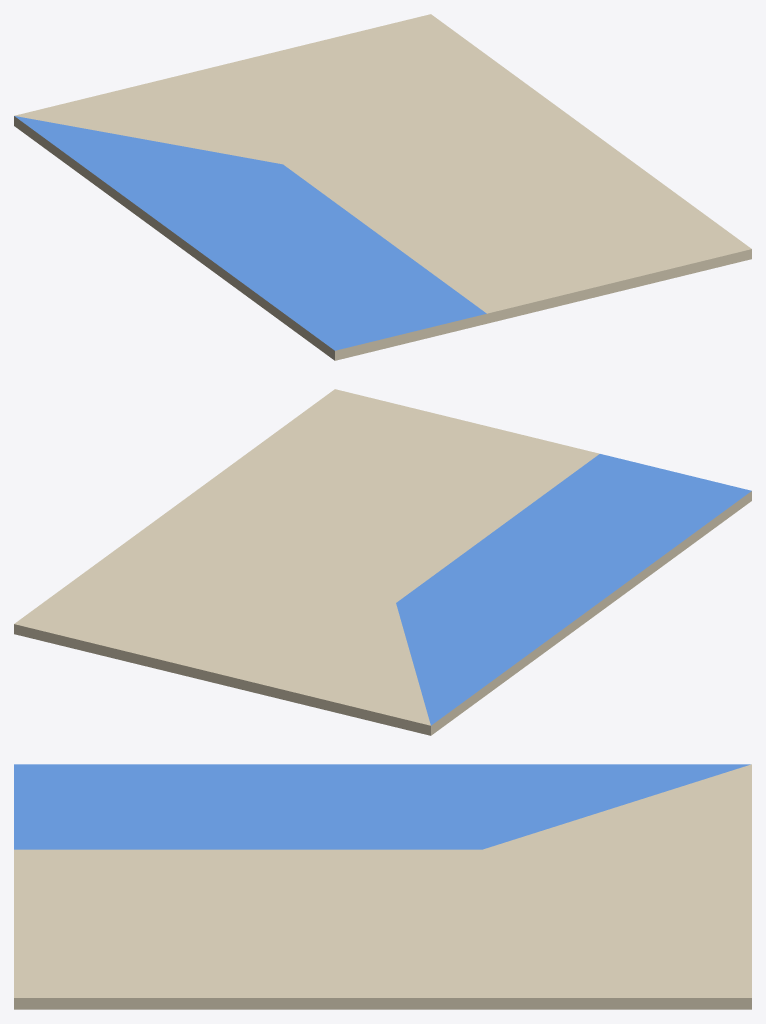
File: meridian_refinery_foundation.glb
3 views of the same model, one above another, from view 1: azimuth 30°, elevation 25°; view 2: azimuth 150°, elevation 25°; view 3: azimuth 270°, elevation 25° (orthographic). The views are drawn at different scales.
Parts seen in each view (by area): view 1: hull; view 2: hull; view 3: hull.
Part boxes in pixels (x1,y1,x2,y2): hull: [14, 14, 751, 360]; hull: [14, 389, 751, 735]; hull: [14, 764, 751, 1009].
Bounding box in the file's own units: 10.8 × 0.25 × 14.4.
